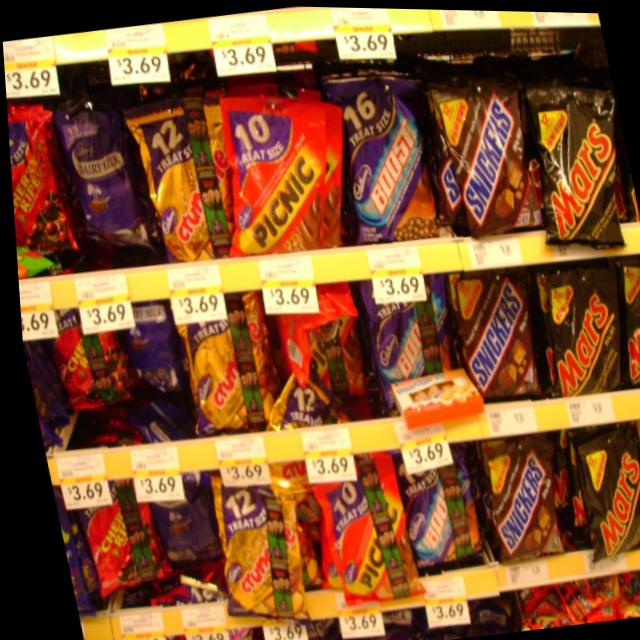q142: (426, 72, 550, 243), (444, 262, 547, 412), (466, 428, 567, 567)
